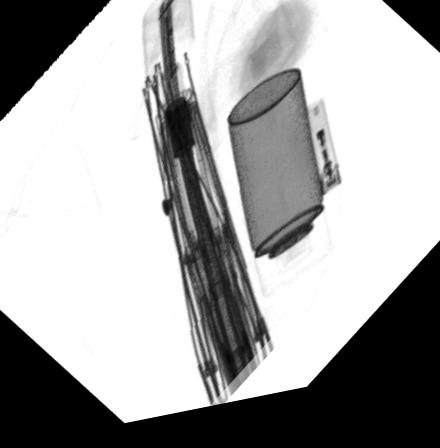Lighter: (305, 110, 342, 210)
Sprayer: (229, 81, 333, 307)
